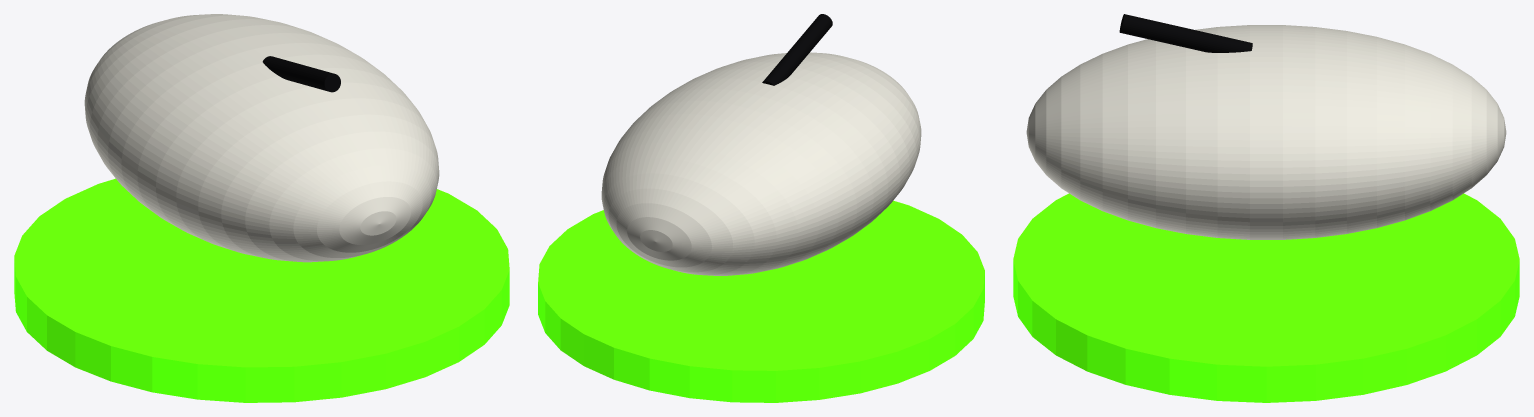
Rendered from tech_mouse.dae.
3 renders of one model, left to right at view 1: azimuth 30°, elevation 25°; view 2: azimuth 150°, elevation 25°; view 3: azimuth 270°, elevation 25°, orthographic. The views are drawn at different scales.
Parts seen in each view (by area): view 1: 08_11_Popular_Tech_Mouse_ROOT_base, 08_11_Popular_Tech_Mouse_part_01, 08_11_Popular_Tech_Mouse_part_02; view 2: 08_11_Popular_Tech_Mouse_ROOT_base, 08_11_Popular_Tech_Mouse_part_01, 08_11_Popular_Tech_Mouse_part_02; view 3: 08_11_Popular_Tech_Mouse_part_01, 08_11_Popular_Tech_Mouse_ROOT_base, 08_11_Popular_Tech_Mouse_part_02.
Boxes of the visible parts, <box> form: 08_11_Popular_Tech_Mouse_ROOT_base: <box>14,178,509,402</box>; 08_11_Popular_Tech_Mouse_part_01: <box>84,14,439,262</box>; 08_11_Popular_Tech_Mouse_part_02: <box>262,56,340,92</box>; 08_11_Popular_Tech_Mouse_ROOT_base: <box>538,200,984,402</box>; 08_11_Popular_Tech_Mouse_part_01: <box>601,52,921,275</box>; 08_11_Popular_Tech_Mouse_part_02: <box>762,14,832,85</box>; 08_11_Popular_Tech_Mouse_part_01: <box>1026,25,1506,239</box>; 08_11_Popular_Tech_Mouse_ROOT_base: <box>1013,193,1519,402</box>; 08_11_Popular_Tech_Mouse_part_02: <box>1119,14,1252,52</box>.
Size of the model in its own units: 0.76 by 0.4651 by 0.76.
